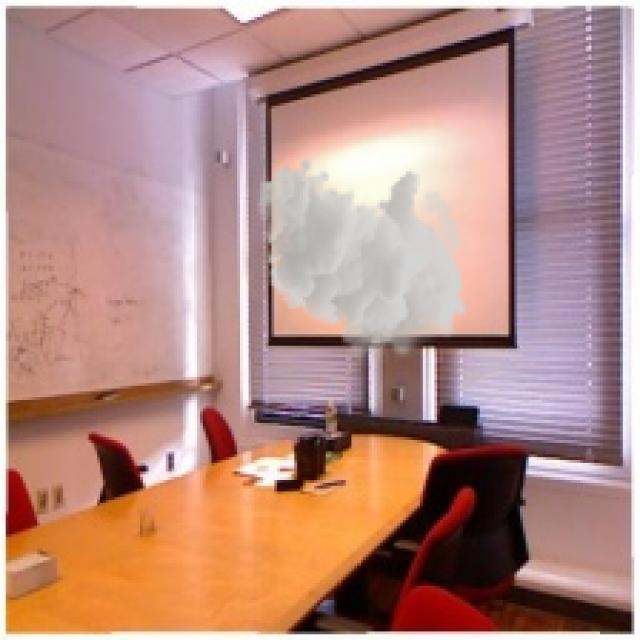smoke: (257, 157, 469, 366)
